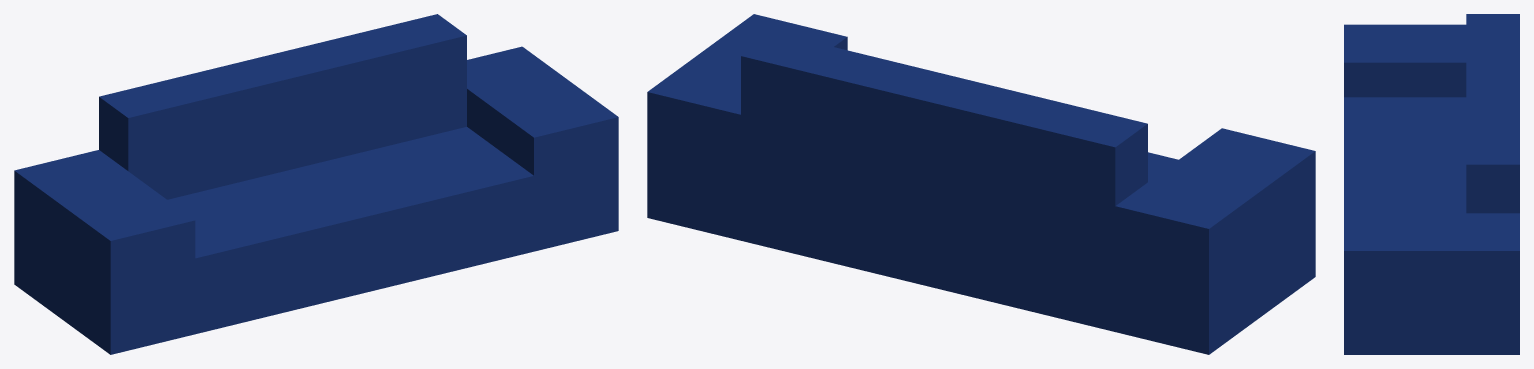
File: Sofa.fbx
3 renders of one model, left to right at view 1: azimuth 30°, elevation 25°; view 2: azimuth 150°, elevation 25°; view 3: azimuth 270°, elevation 25°, orthographic. The views are drawn at different scales.
Visible parts, largest first — view 1: Cube_10; view 2: Cube_10; view 3: Cube_10.
Boxes of the visible parts, <box> form: Cube_10: <box>14,14,618,354</box>; Cube_10: <box>647,14,1315,354</box>; Cube_10: <box>1344,14,1519,354</box>.
Size of the model in its own units: 700 by 220 by 230.
